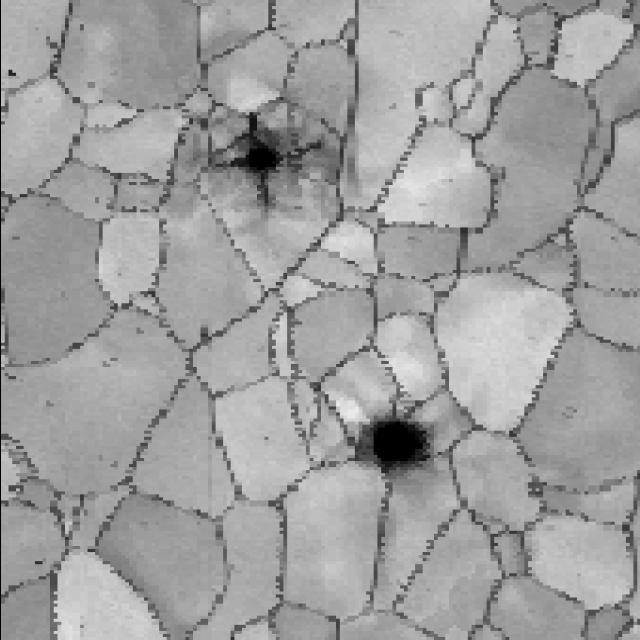good_void: (195, 109, 331, 219), (358, 407, 438, 477), (4, 66, 20, 79), (31, 557, 47, 568)
